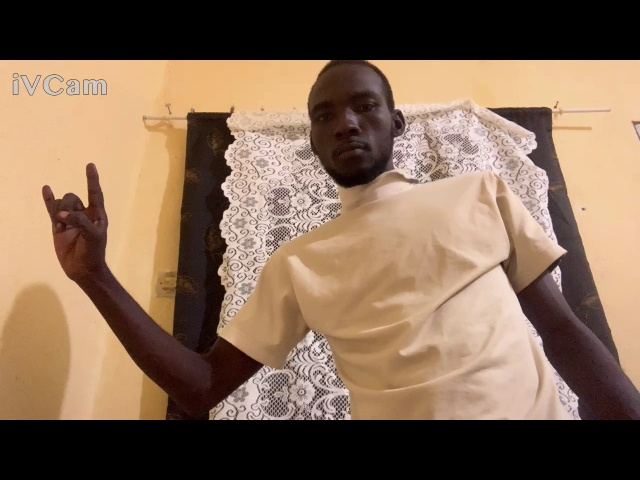je t'aime: (37, 160, 122, 297)
